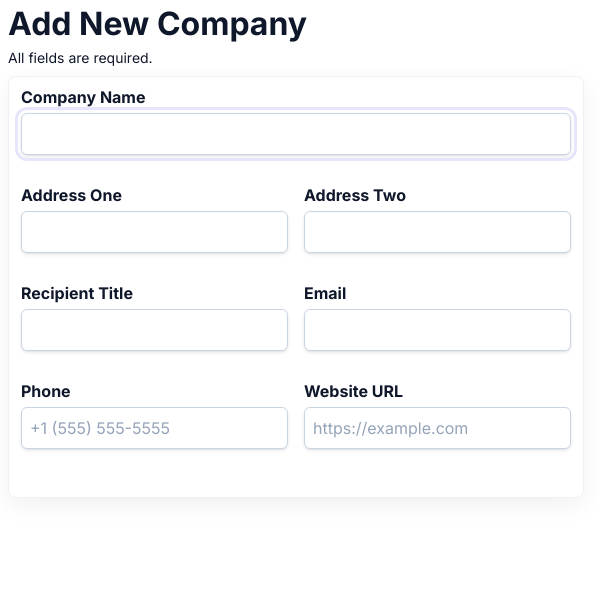
Test case: NewCompany › shows submit button when form is edited
Expected: the button "Create New Company" is not shown
Type "Acme Co" into the field labelled "Company Name".
click(296, 134); type("Acme Co")  # box [21, 113, 571, 155]
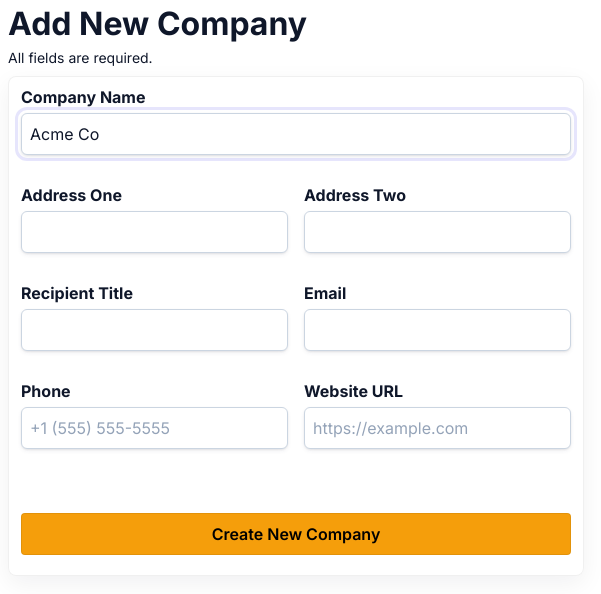
Expected: the button "Create New Company" is shown, [21, 513, 571, 555]
